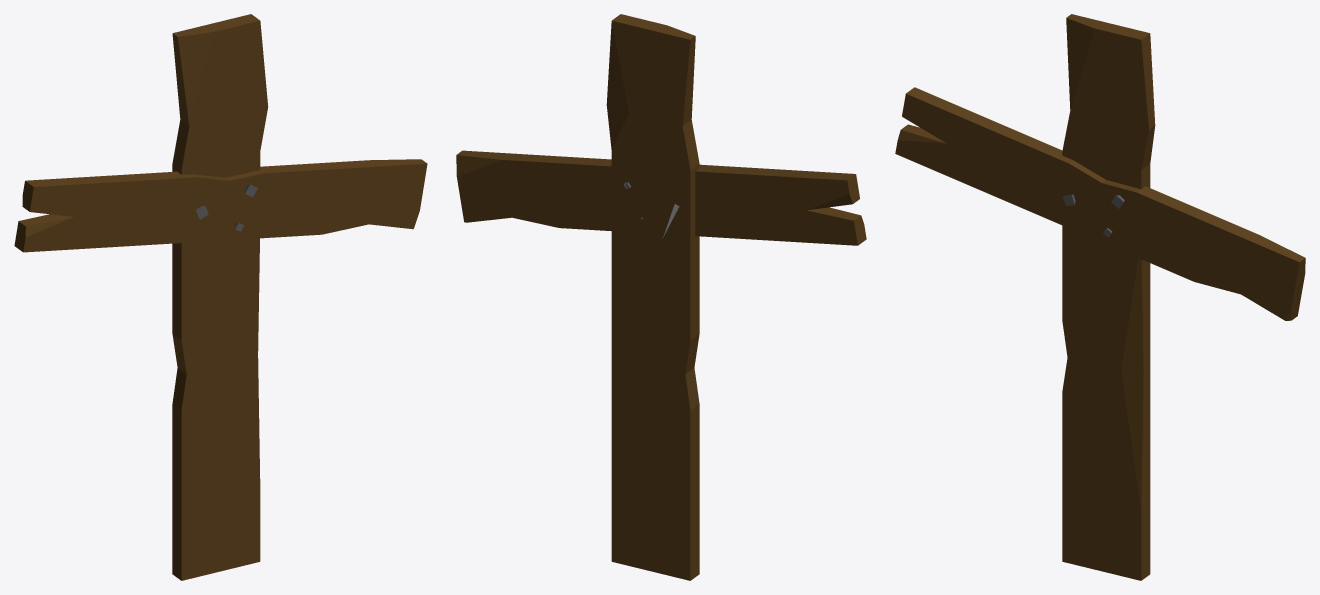
File: Cross.fbx
The picture shows the model from 3 angles, left to right: view 1: azimuth 30°, elevation 25°; view 2: azimuth 150°, elevation 25°; view 3: azimuth 330°, elevation 25°; orthographic projection.
Parts seen in each view (by area): view 1: Cross; view 2: Cross; view 3: Cross.
Part boxes in pixels (x1,y1,x2,y2): Cross: (14,14,427,580); Cross: (456,14,866,580); Cross: (895,14,1305,580).
Size of the model in its own units: 103 by 131 by 13.48.
